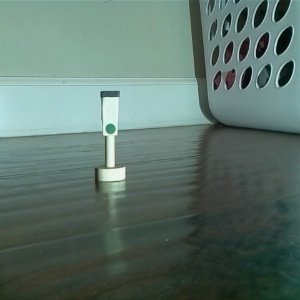traffic light green: (92, 88, 126, 183)
